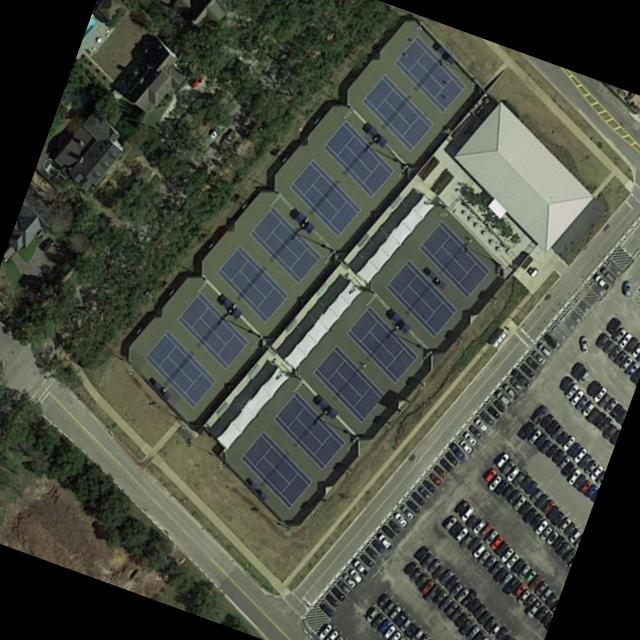small-vehicle: (531, 405, 550, 426), (526, 572, 545, 592), (598, 265, 617, 285), (460, 589, 478, 610), (423, 583, 441, 604), (501, 576, 520, 595), (592, 272, 610, 292), (517, 421, 534, 442), (511, 370, 529, 389), (524, 600, 542, 619), (494, 390, 512, 409), (458, 618, 475, 637), (208, 121, 225, 140), (452, 612, 469, 630), (606, 260, 623, 278), (535, 342, 552, 360), (463, 623, 481, 640), (370, 612, 386, 631), (438, 568, 454, 587), (511, 494, 527, 513), (503, 552, 519, 571), (502, 383, 518, 402), (448, 605, 464, 624), (352, 559, 368, 578), (437, 593, 452, 613), (566, 467, 581, 487), (465, 596, 482, 613), (504, 466, 521, 483), (393, 610, 409, 628), (420, 578, 436, 596), (538, 413, 554, 431), (487, 474, 503, 492), (483, 528, 499, 546), (482, 555, 498, 573), (611, 327, 627, 345), (617, 332, 633, 350), (574, 395, 590, 413), (458, 532, 474, 550), (375, 533, 391, 551), (363, 606, 379, 624), (336, 578, 352, 596), (340, 572, 356, 590), (563, 520, 578, 539), (379, 523, 395, 540), (601, 424, 617, 441), (446, 520, 462, 537), (521, 507, 537, 524), (443, 451, 459, 468), (478, 410, 494, 427), (543, 419, 559, 436), (482, 616, 498, 633), (459, 506, 475, 523), (317, 623, 333, 640), (526, 428, 542, 445), (524, 356, 540, 373), (530, 350, 546, 367), (409, 490, 424, 508), (556, 542, 571, 560), (475, 609, 490, 627), (542, 332, 557, 350), (606, 318, 621, 336), (450, 444, 465, 462), (347, 567, 362, 585), (322, 593, 338, 609), (403, 499, 419, 515), (528, 513, 544, 529), (437, 457, 453, 473), (548, 426, 564, 442), (558, 376, 574, 392), (569, 363, 585, 379), (499, 548, 515, 564), (563, 384, 579, 400), (507, 377, 523, 393), (375, 593, 390, 610), (369, 538, 384, 555), (572, 473, 587, 490), (444, 575, 459, 592), (414, 572, 429, 589), (432, 589, 447, 606), (550, 536, 565, 553), (506, 489, 521, 506), (586, 380, 601, 397), (493, 480, 508, 497), (515, 590, 530, 607), (533, 519, 548, 536), (576, 368, 591, 385), (592, 387, 607, 404), (568, 390, 583, 407), (583, 461, 598, 478), (572, 447, 587, 464), (561, 435, 576, 452), (500, 459, 515, 476), (488, 560, 503, 577), (493, 567, 508, 584), (493, 541, 508, 558), (392, 512, 407, 529), (593, 412, 607, 430), (624, 336, 638, 354), (400, 504, 414, 522), (318, 603, 333, 619), (534, 494, 549, 510), (471, 604, 486, 620), (430, 565, 445, 581), (420, 554, 435, 570), (432, 464, 447, 480), (519, 363, 534, 379), (188, 75, 204, 90), (40, 238, 55, 254), (550, 449, 565, 465), (532, 433, 547, 449), (477, 523, 492, 539), (512, 583, 527, 599), (534, 581, 549, 597), (607, 345, 622, 361), (580, 401, 595, 417), (457, 439, 472, 455), (462, 431, 477, 447), (466, 537, 481, 553), (387, 605, 402, 621), (454, 499, 468, 516), (414, 546, 428, 563), (567, 442, 581, 459), (539, 525, 553, 542), (472, 543, 486, 560), (618, 356, 632, 373), (544, 593, 558, 610), (534, 606, 548, 623), (464, 514, 479, 529), (601, 340, 616, 355), (488, 535, 503, 550), (454, 527, 469, 542), (398, 617, 413, 632), (330, 586, 344, 602), (421, 478, 435, 494), (568, 529, 582, 545), (550, 511, 564, 527), (517, 501, 531, 517), (511, 472, 525, 488), (560, 462, 574, 478), (544, 443, 558, 459), (598, 417, 612, 433), (443, 515, 457, 531), (517, 564, 531, 580), (545, 530, 559, 546), (589, 465, 603, 481), (495, 453, 509, 469), (467, 424, 481, 440), (474, 418, 488, 434), (522, 593, 536, 609), (511, 558, 525, 574), (416, 486, 430, 502), (454, 588, 468, 604), (448, 582, 462, 598), (426, 559, 440, 575), (382, 624, 396, 640), (359, 553, 373, 568), (363, 546, 377, 561), (544, 505, 558, 520), (540, 499, 554, 514), (518, 476, 532, 491), (403, 623, 417, 638), (409, 568, 423, 583), (488, 622, 502, 637), (485, 405, 499, 420), (554, 431, 568, 446), (538, 440, 552, 455), (609, 405, 624, 419), (586, 408, 600, 423), (596, 335, 610, 350), (483, 468, 497, 483), (471, 520, 485, 535), (444, 602, 458, 617), (382, 600, 396, 615), (523, 480, 536, 496), (377, 618, 390, 634), (577, 454, 590, 470), (557, 517, 570, 533), (584, 483, 597, 499), (494, 626, 508, 640), (476, 551, 490, 565), (403, 561, 416, 576), (613, 352, 626, 367), (500, 574, 513, 589), (598, 394, 611, 409), (605, 399, 618, 414), (539, 588, 552, 603), (629, 342, 640, 359), (492, 399, 505, 413), (524, 570, 537, 584), (428, 473, 441, 487), (387, 519, 399, 534), (472, 628, 487, 640), (626, 363, 638, 378), (409, 628, 424, 640), (324, 629, 340, 640), (530, 490, 543, 503), (502, 485, 514, 499), (579, 480, 591, 494), (558, 456, 570, 470), (580, 337, 587, 353), (623, 282, 630, 297), (389, 632, 402, 640), (502, 633, 515, 640), (419, 632, 430, 640), (336, 636, 344, 640)
